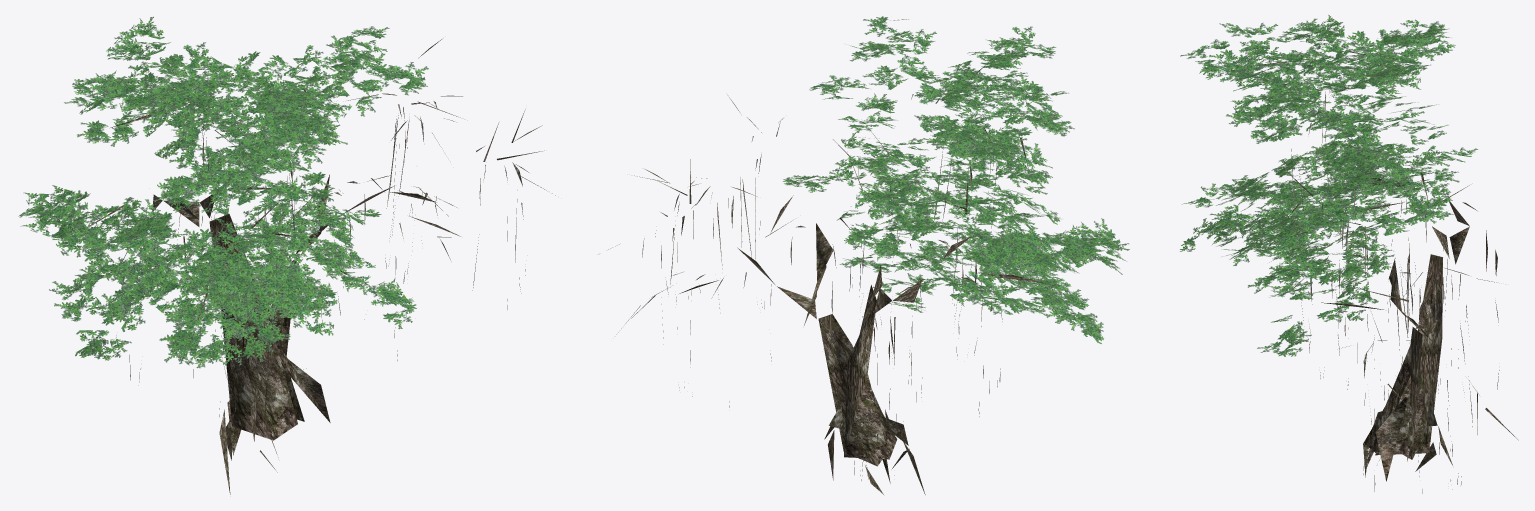
Rendered from Big_tree_03_ivy.glb.
The picture shows the model from 3 angles, left to right: view 1: azimuth 30°, elevation 25°; view 2: azimuth 150°, elevation 25°; view 3: azimuth 270°, elevation 25°; orthographic projection. The views are drawn at different scales.
Visible parts, largest first — view 1: Big_tree_03_ivy; view 2: Big_tree_03_ivy; view 3: Big_tree_03_ivy.
Part boxes in pixels (bbox=[...]): Big_tree_03_ivy: bbox=[18, 16, 555, 494]; Big_tree_03_ivy: bbox=[608, 16, 1129, 494]; Big_tree_03_ivy: bbox=[1180, 14, 1518, 493].
Size of the model in its own units: 30.72 by 24.59 by 17.99.
3 materials, 3 textured.
